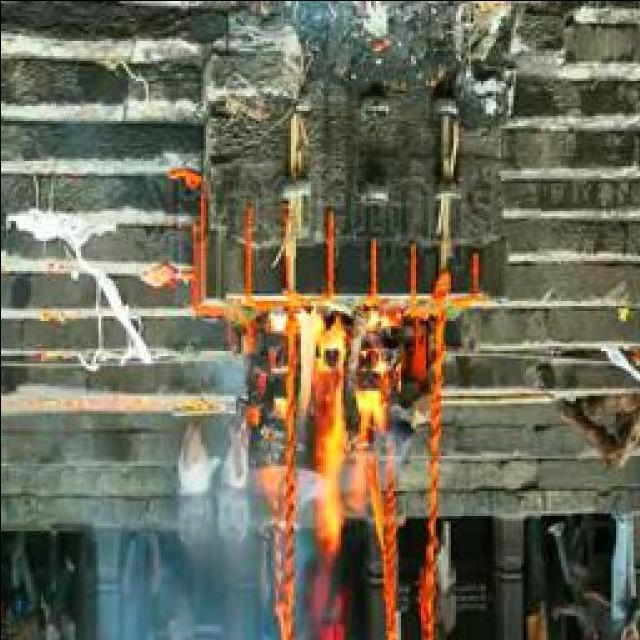Fire: (275, 311, 387, 548)
